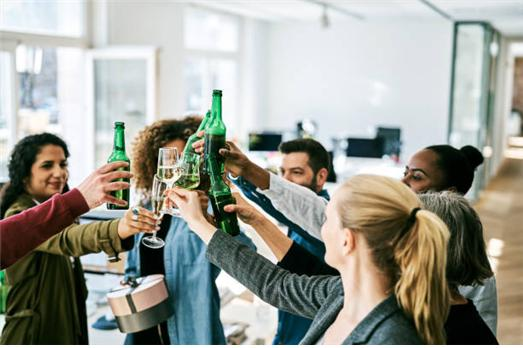alcohol: (206, 154, 240, 237), (168, 151, 201, 217), (107, 120, 131, 210), (141, 175, 170, 249), (203, 90, 226, 174), (182, 108, 212, 171), (157, 146, 181, 215)
